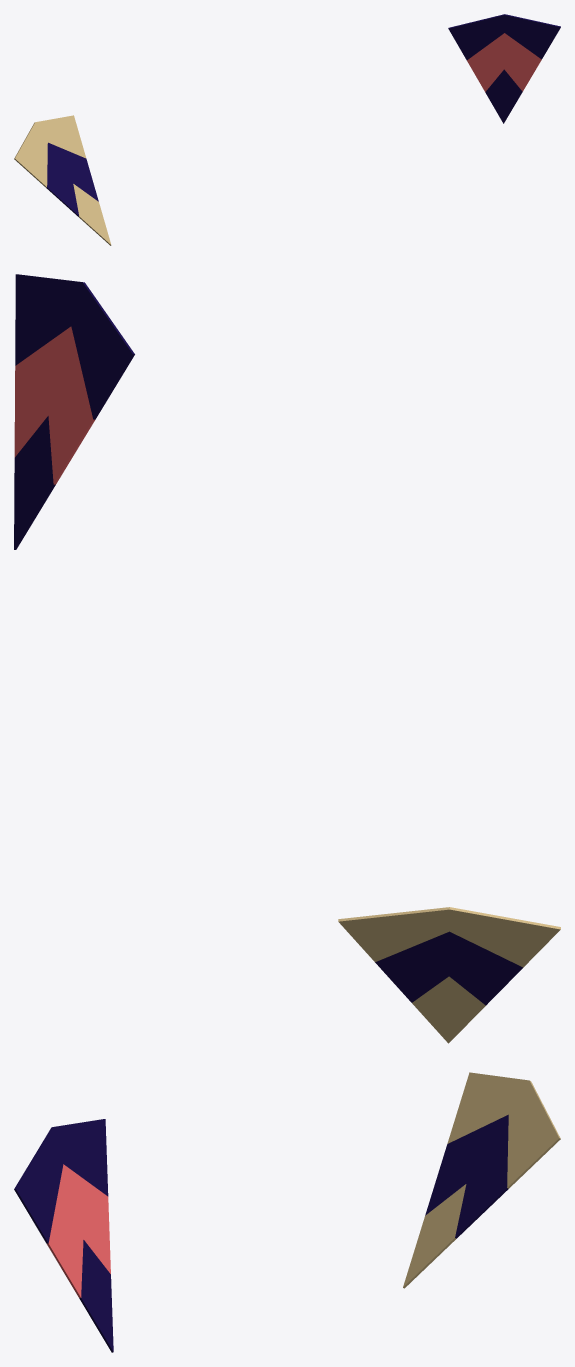
The model's file is kite.glb.
The picture shows the model from 3 angles, top to bottom: view 1: azimuth 30°, elevation 25°; view 2: azimuth 150°, elevation 25°; view 3: azimuth 270°, elevation 25°; orthographic projection. The views are drawn at different scales.
Parts seen in each view (by area): view 1: Kite, Kite.001; view 2: Kite, Kite.001; view 3: Kite.001, Kite.
Part boxes in pixels (<box>): Kite: <box>448,14,560,123</box>; Kite.001: <box>14,115,111,245</box>; Kite: <box>14,274,134,549</box>; Kite.001: <box>338,907,560,1043</box>; Kite.001: <box>403,1072,560,1288</box>; Kite: <box>14,1119,113,1352</box>.
Size of the model in its own units: 2.58 by 1.43 by 1.77.
